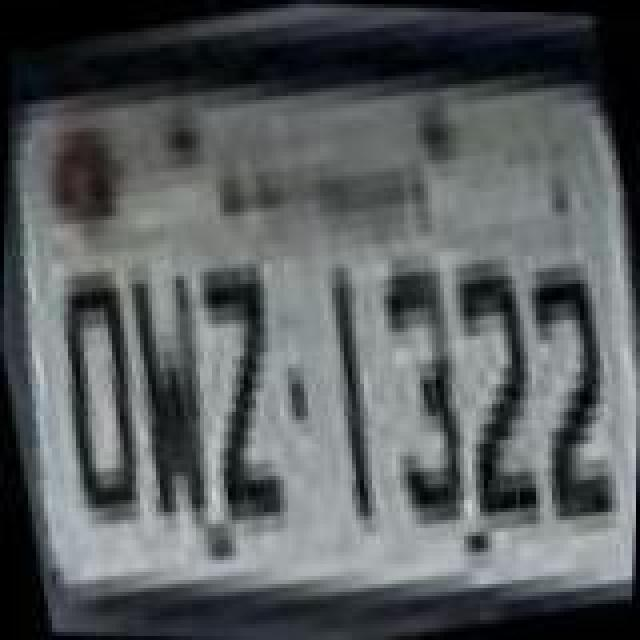1: (300, 262, 400, 530)
2: (418, 244, 570, 540), (494, 250, 638, 534)
3: (352, 248, 492, 532)
O: (30, 258, 166, 526)
W: (108, 260, 240, 532)
Z: (176, 252, 316, 532)
